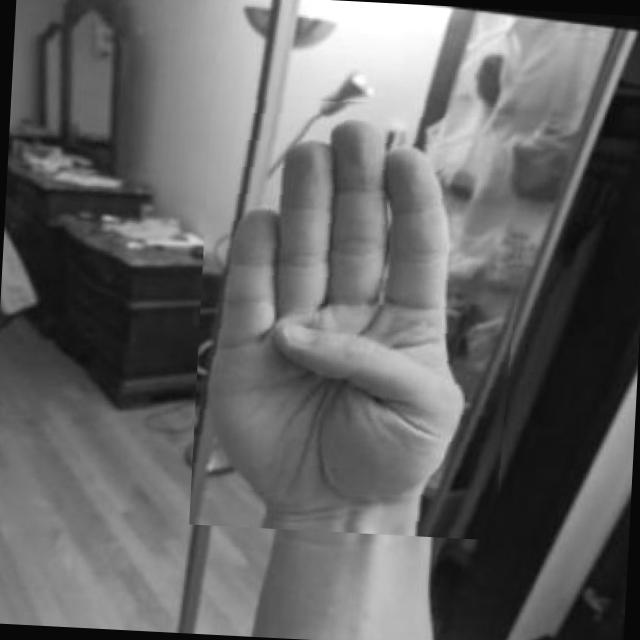B: (190, 89, 532, 541)
